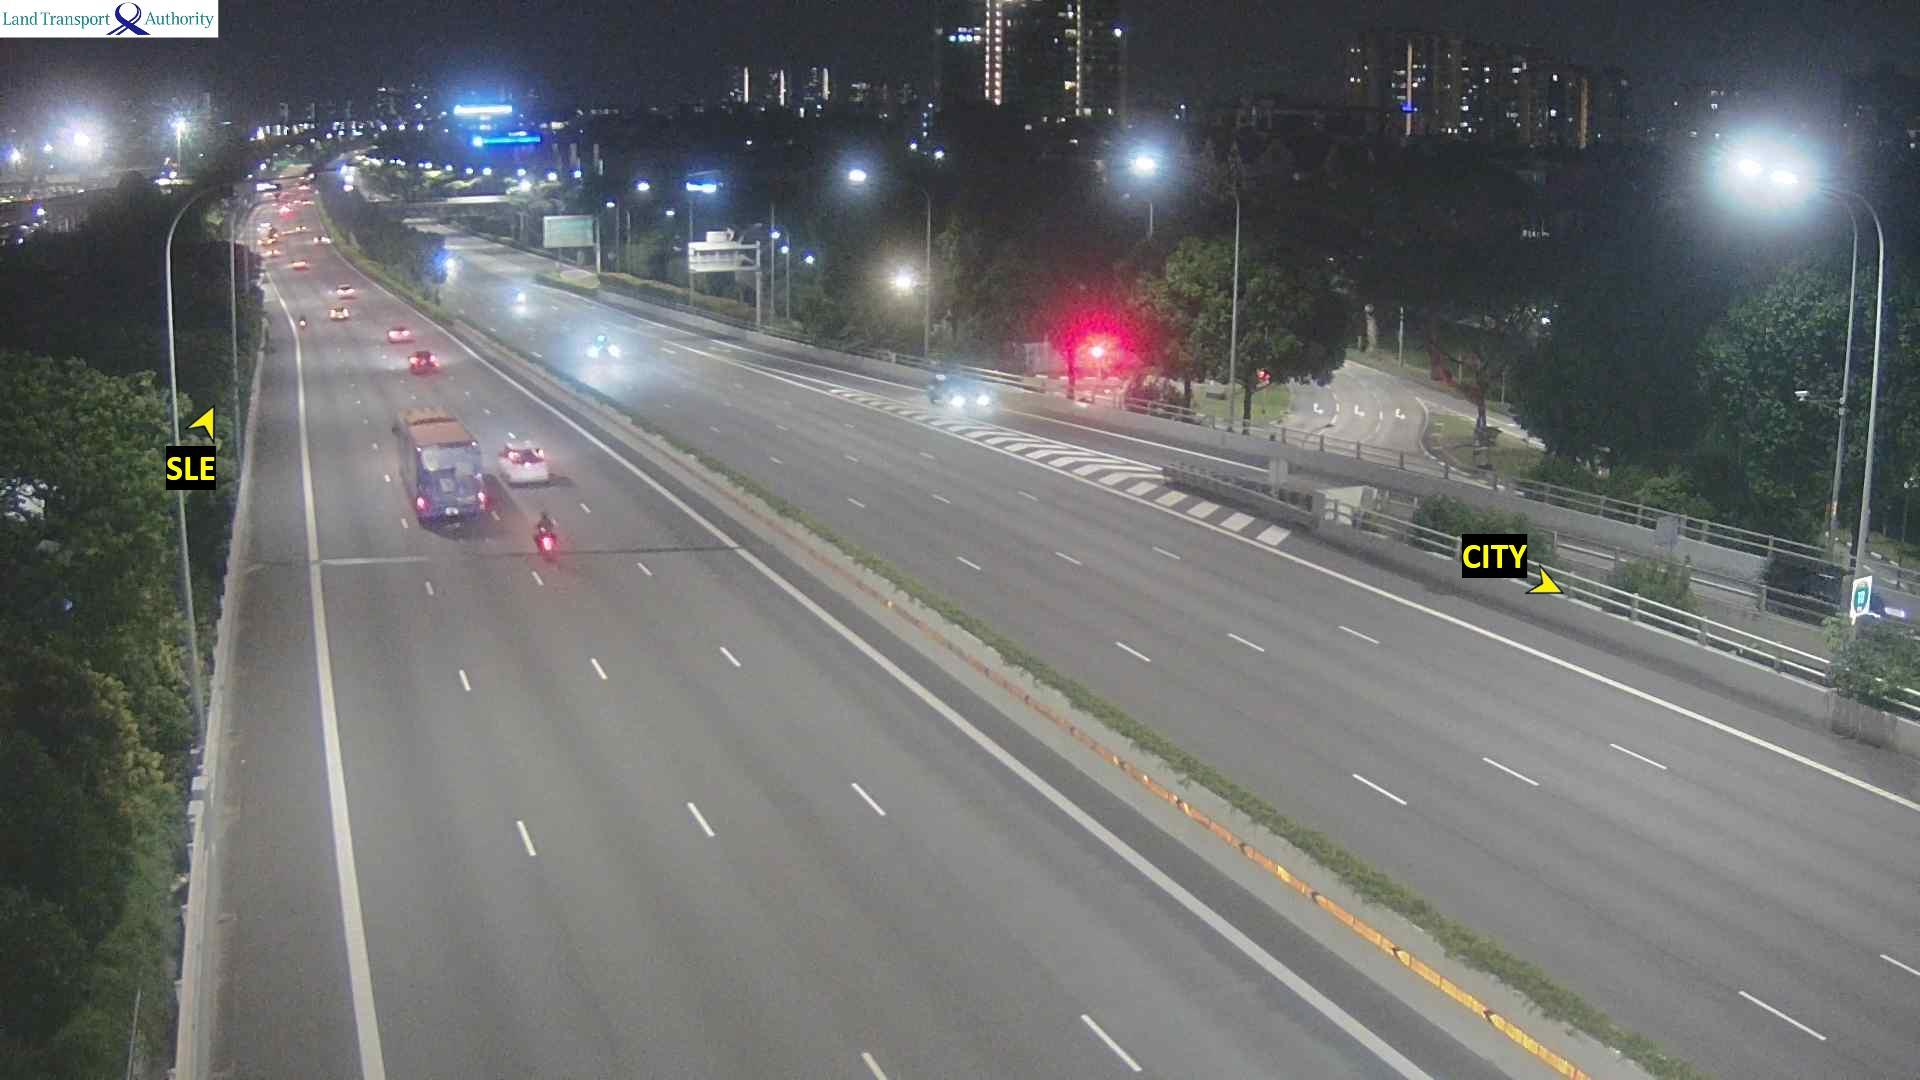cars: (1756, 539, 1890, 634), (926, 371, 993, 411), (497, 433, 549, 485), (584, 331, 621, 360), (407, 349, 438, 373), (386, 324, 414, 342), (328, 303, 349, 320), (334, 281, 355, 298), (256, 235, 276, 247), (291, 258, 309, 270), (311, 235, 328, 247), (264, 248, 282, 258), (295, 223, 309, 232)
motorcycle: (530, 509, 564, 564), (509, 282, 529, 309), (297, 307, 309, 330)
trucks: (392, 405, 485, 525)
